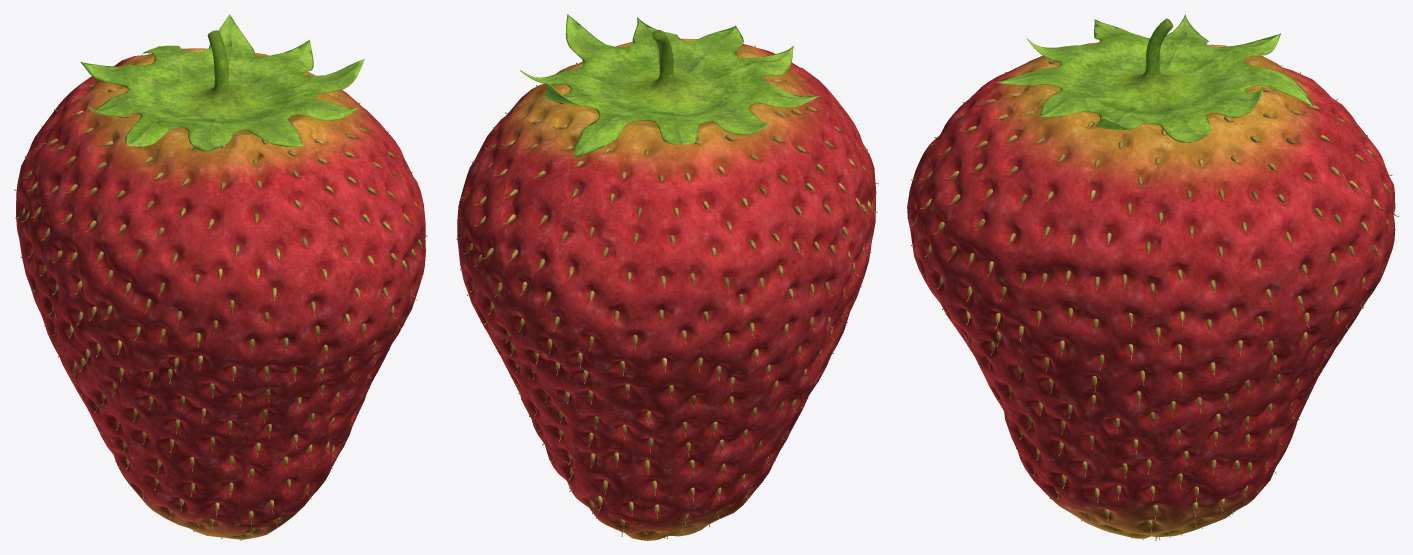
File: dutch_strawberry.glb
3 views of the same model, side by side, from view 1: azimuth 30°, elevation 25°; view 2: azimuth 150°, elevation 25°; view 3: azimuth 270°, elevation 25° (orthographic). The views are drawn at different scales.
Visible parts, largest first — view 1: g (×3); view 2: g (×3); view 3: g (×3).
Part boxes in pixels (x1,y1,x2,y2): g (×3): [14, 14, 427, 540]; g (×3): [456, 14, 878, 540]; g (×3): [907, 14, 1398, 540].
Bounding box in the file's own units: 0.0946 × 0.1336 × 0.1149.
Materials: 1 (1 with a texture image).
